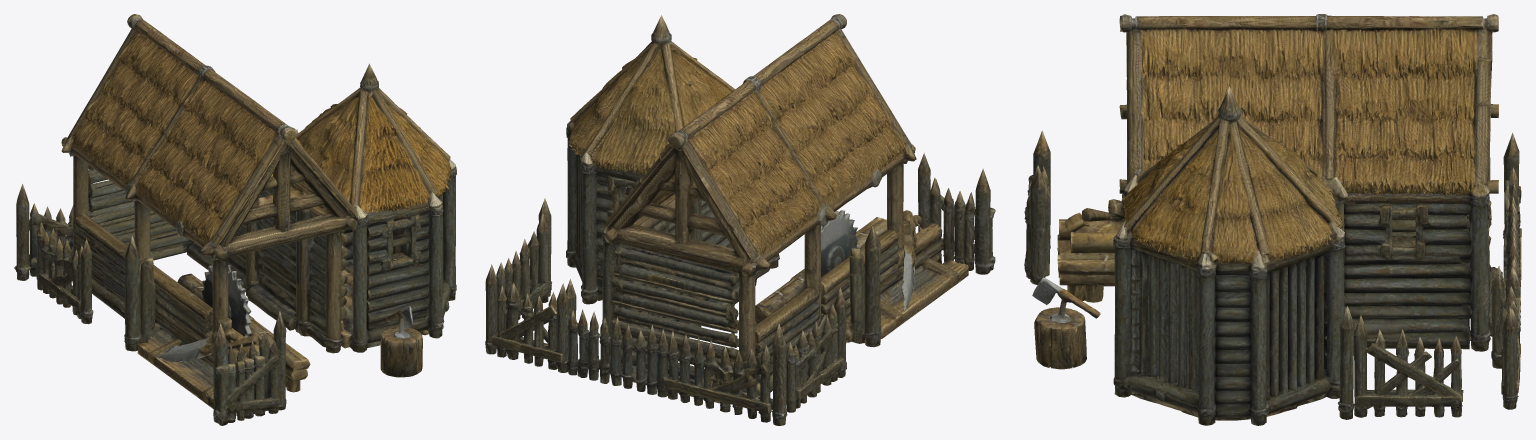
The model's file is lumber_camp__thatchwood-sawmill_hq.glb.
3 renders of one model, left to right at view 1: azimuth 30°, elevation 25°; view 2: azimuth 150°, elevation 25°; view 3: azimuth 270°, elevation 25°, orthographic. The views are drawn at different scales.
Parts seen in each view (by area): view 1: mesh_node; view 2: mesh_node; view 3: mesh_node.
Part boxes in pixels (x1,y1,x2,y2): mesh_node: [14, 14, 456, 425]; mesh_node: [485, 14, 995, 425]; mesh_node: [1024, 14, 1521, 425].
Bounding box in the file's own units: 1.66 × 1.24 × 1.9.
Materials: 1 (1 with a texture image).
